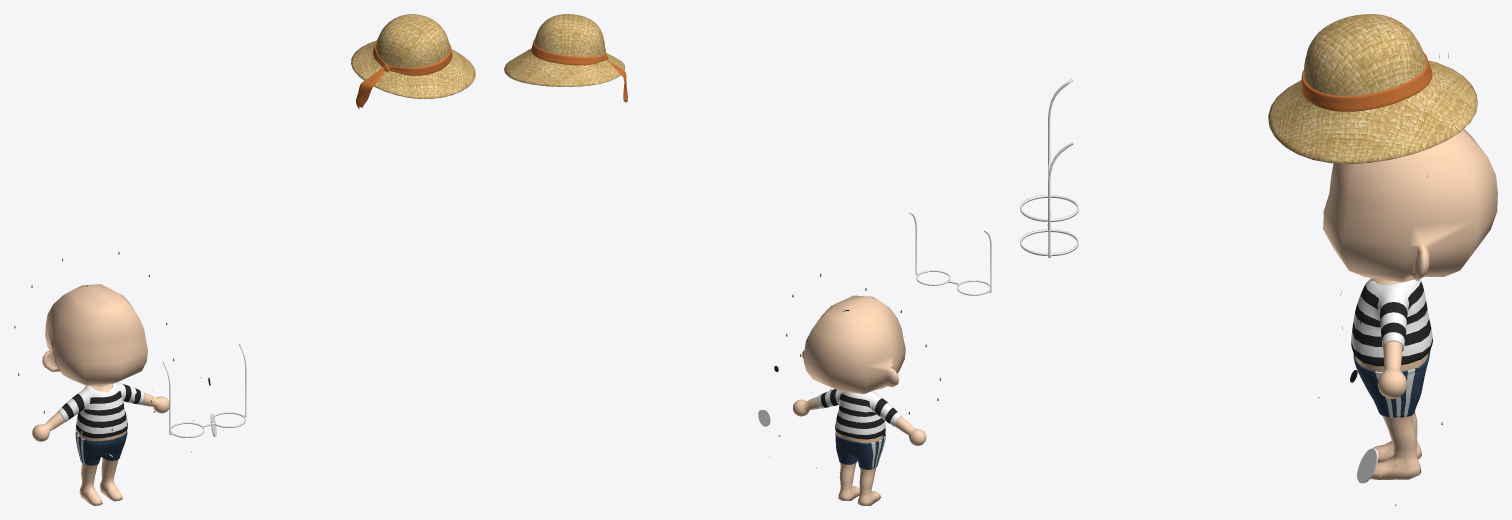
The model's file is ana_model.glb.
3 renders of one model, left to right at view 1: azimuth 30°, elevation 25°; view 2: azimuth 150°, elevation 25°; view 3: azimuth 270°, elevation 25°, orthographic. The views are drawn at different scales.
Parts seen in each view (by area): view 1: Head1lambert1SG, Hat2001, Material004, Material006, Hat2001_1, Material018, Material023; view 2: Head1lambert1SG, Hat2001, Material004, Material006, Material018, Hat2001_1, Material023; view 3: Head1lambert1SG, Hat2001, Material004, Material006, Hat2001_1, Material018, Material023.
Boxes of the visible parts, x1,y1,x2,y2 form: Head1lambert1SG: (32,284,169,505); Hat2001: (351,14,475,98); Material004: (57,382,144,433); Material006: (62,384,140,438); Hat2001_1: (356,39,452,108); Material018: (75,429,127,465); Material023: (163,343,246,437); Head1lambert1SG: (793,295,926,505); Hat2001: (504,14,624,86); Material004: (817,390,901,434); Material006: (820,389,897,439); Material018: (835,433,885,469); Hat2001_1: (531,39,627,102); Material023: (909,212,991,295); Head1lambert1SG: (1323,129,1497,479); Hat2001: (1268,14,1477,163); Material004: (1351,278,1432,357); Material006: (1351,281,1432,366); Hat2001_1: (1301,52,1432,111); Material018: (1353,352,1430,417); Material023: (1020,79,1078,257).
Size of the model in its own units: 2.32 by 2.05 by 1.27.
Materials: 33 (11 with a texture image).
